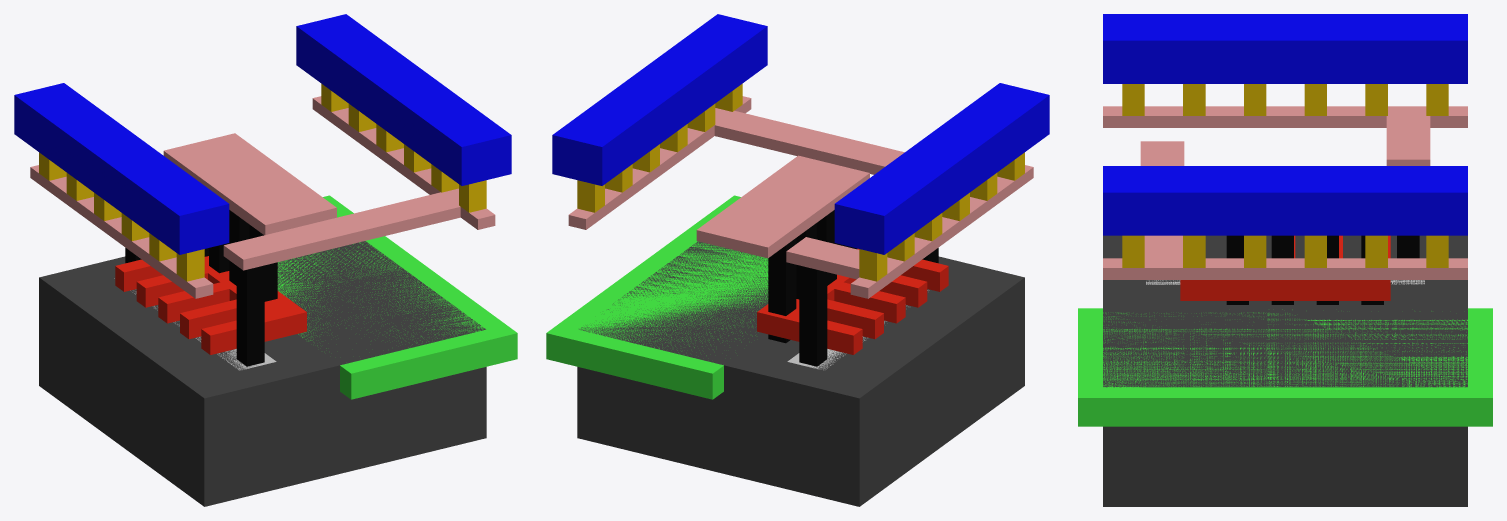
File: sky130_fd_sc_hd__lpflow_bleeder_1.obj
3 views of the same model, side by side, from view 1: azimuth 30°, elevation 25°; view 2: azimuth 150°, elevation 25°; view 3: azimuth 270°, elevation 25° (orthographic). The views are drawn at different scales.
Parts seen in each view (by area): view 1: subs, metal1, li, nwell, poly, mcon, licon; view 2: subs, metal1, li, nwell, poly, mcon, licon; view 3: subs, metal1, nwell, li, mcon, poly, licon.
Part boxes in pixels (x1,y1,x2,y2): subs: (39, 241, 486, 506); metal1: (14, 14, 511, 254); li: (30, 96, 495, 298); nwell: (277, 195, 517, 399); poly: (115, 256, 306, 354); mcon: (39, 83, 486, 281); licon: (125, 210, 277, 366); subs: (577, 241, 1024, 506); metal1: (552, 14, 1049, 254); li: (568, 96, 1033, 298); nwell: (546, 195, 768, 399); poly: (757, 248, 948, 354); mcon: (577, 83, 1024, 281); licon: (768, 210, 938, 366); subs: (1103, 235, 1467, 506); metal1: (1103, 14, 1467, 235); nwell: (1078, 308, 1492, 426); li: (1103, 106, 1467, 279); mcon: (1122, 84, 1448, 267); poly: (1180, 235, 1390, 300); licon: (1226, 235, 1419, 304).
Bounding box in the file's own units: 3.2 × 2.74 × 3.14.
